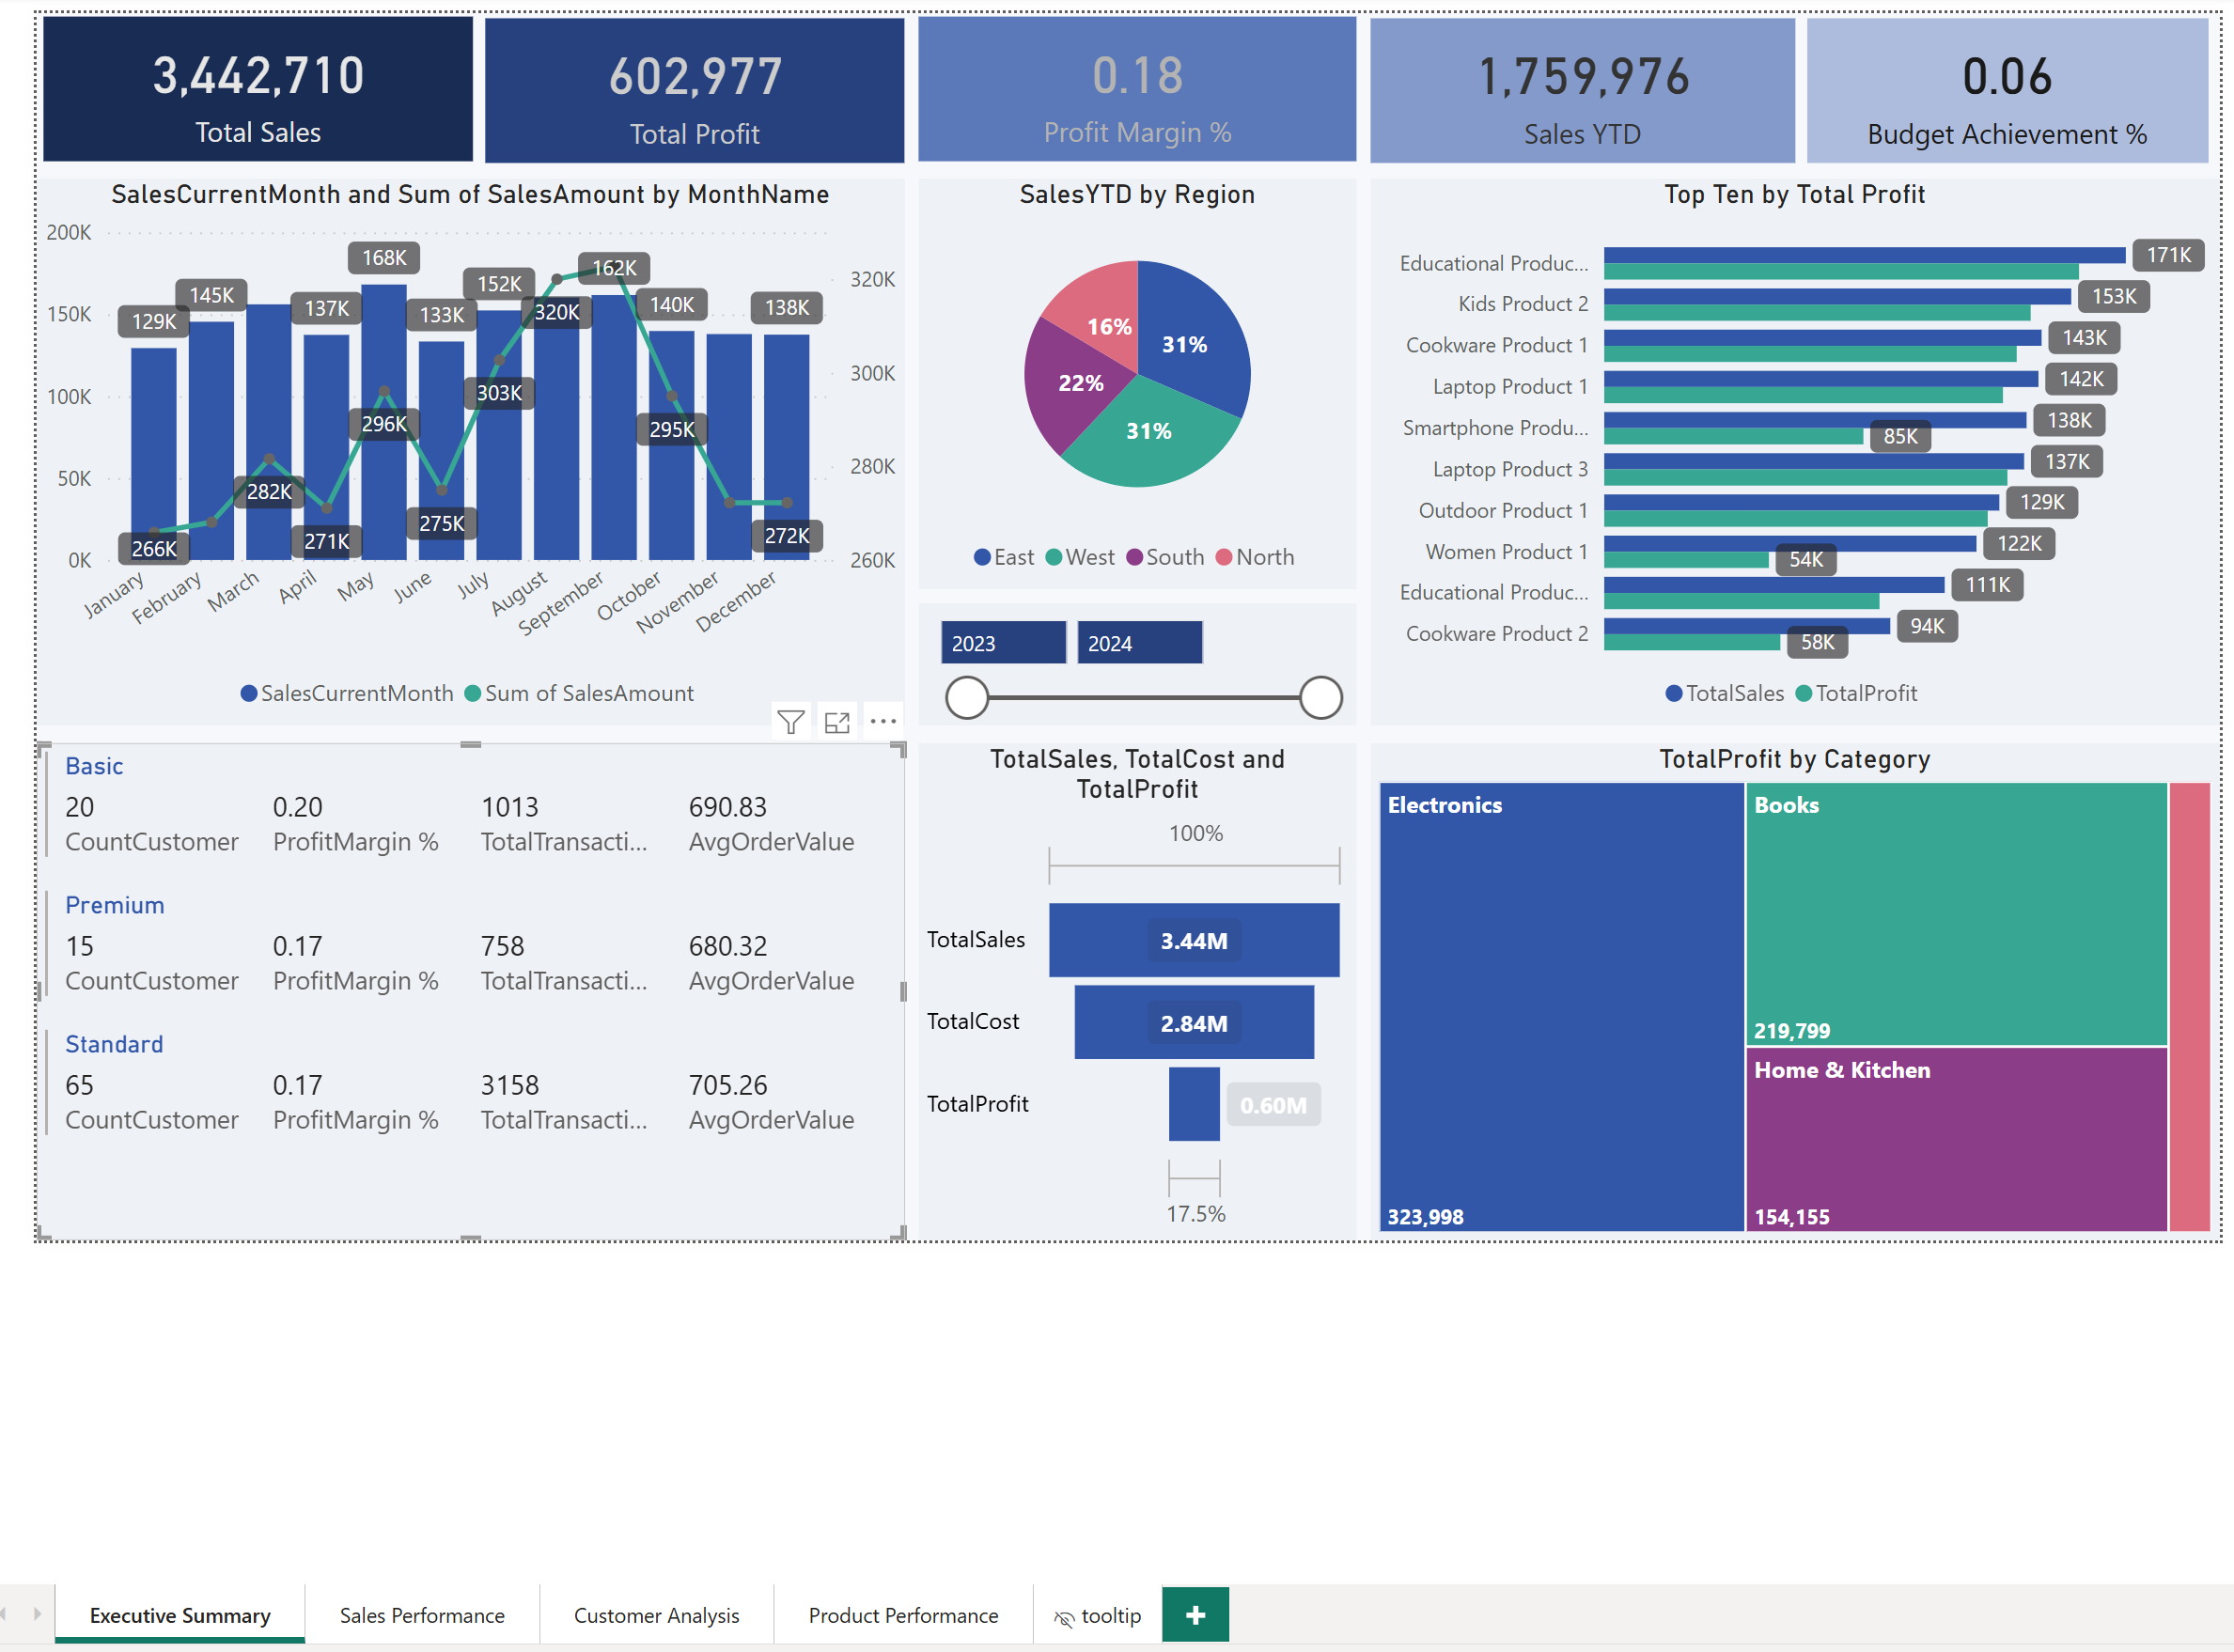

Layout of this report page (visuals, bound fields, positions):
{"tool":"powerbi","page":{"name":"Executive Summary","canvas":[1280,720],"ordinal":0},"visuals":[{"type":"card","fields":{"Values":["MeasureTable.TotalSales"]},"box":[4,2,252,85],"z":0},{"type":"card","fields":{"Values":["MeasureTable.TotalProfit"]},"box":[263,3,246,85],"z":1000},{"type":"card","fields":{"Values":["MeasureTable.ProfitMargin %"]},"box":[517,2,257,85],"z":2000},{"type":"card","fields":{"Values":["MeasureTable.SalesYTD"]},"box":[782,3,249,85],"z":3000},{"type":"card","fields":{"Values":["MeasureTable.BudgetAchievement %"]},"box":[1038,3,235,85],"z":4000},{"type":"lineStackedColumnComboChart","fields":{"Category":["dim_date.MonthName"],"Y":["MeasureTable.SalesCurrentMonth"],"Y2":["Sum(fact_sales.SalesAmount)"]},"box":[0,97,509,321],"z":5000},{"type":"slicer","fields":{"Values":["dim_date.Year"]},"box":[517,346,257,72],"z":6000},{"type":"treemap","fields":{"Group":["dim_product.Category","dim_product.SubCategory"],"Values":["MeasureTable.TotalProfit"]},"box":[782,428,498,292],"z":7000},{"type":"clusteredBarChart","title":"Top Ten by Total Profit","fields":{"Category":["dim_product.ProductName"],"Y":["MeasureTable.TotalSales","MeasureTable.TotalProfit"]},"box":[782,97,498,321],"z":8000},{"type":"multiRowCard","fields":{"Values":["dim_customer.CustomerSegment","MeasureTable.CountCustomer","MeasureTable.ProfitMargin %","MeasureTable.TotalTransactions","MeasureTable.AvgOrderValue"]},"box":[0,428,509,292],"z":9000},{"type":"pieChart","fields":{"Y":["MeasureTable.SalesYTD"],"Category":["dim_customer.Region"]},"box":[517,97,257,241],"z":10000},{"type":"funnel","fields":{"Y":["MeasureTable.TotalSales","MeasureTable.TotalCost","MeasureTable.TotalProfit"]},"box":[517,428,257,292],"z":10001}]}

Visuals, with their boxes on the page's 1280x720 design canvas (x1, y1, x2, y2). These are canvas units, not pixel positions in the 2234x1652 screenshot, which may show the page scaled, cropped or inside an application window:
card - MeasureTable.TotalSales: 4/2/256/87
card - MeasureTable.TotalProfit: 263/3/509/88
card - MeasureTable.ProfitMargin %: 517/2/774/87
card - MeasureTable.SalesYTD: 782/3/1031/88
card - MeasureTable.BudgetAchievement %: 1038/3/1273/88
lineStackedColumnComboChart - dim_date.MonthName x MeasureTable.SalesCurrentMonth: 0/97/509/418
slicer - dim_date.Year: 517/346/774/418
treemap - dim_product.Category x dim_product.SubCategory: 782/428/1280/720
"Top Ten by Total Profit" clusteredBarChart: 782/97/1280/418
multiRowCard - dim_customer.CustomerSegment x MeasureTable.CountCustomer: 0/428/509/720
pieChart - MeasureTable.SalesYTD x dim_customer.Region: 517/97/774/338
funnel - MeasureTable.TotalSales x MeasureTable.TotalCost: 517/428/774/720
